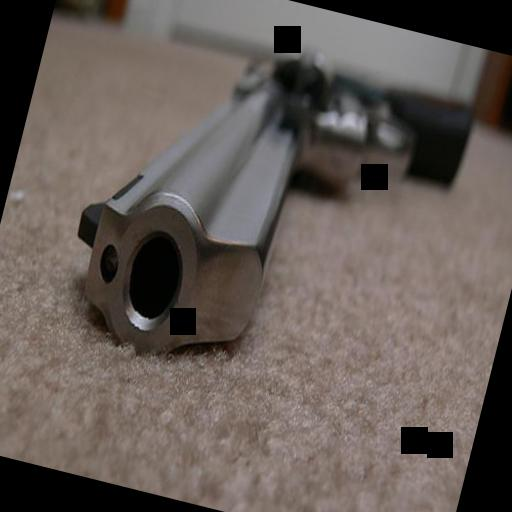Handgun: (46, 8, 478, 400)
